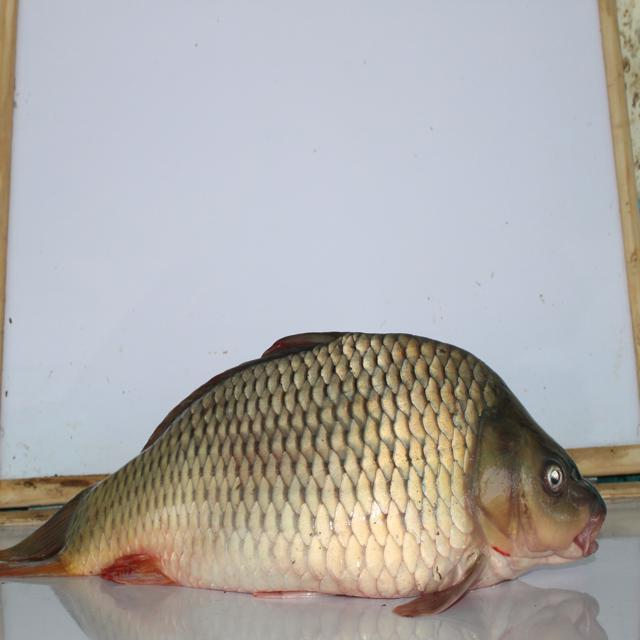CommonCarp: (3, 326, 633, 619)
